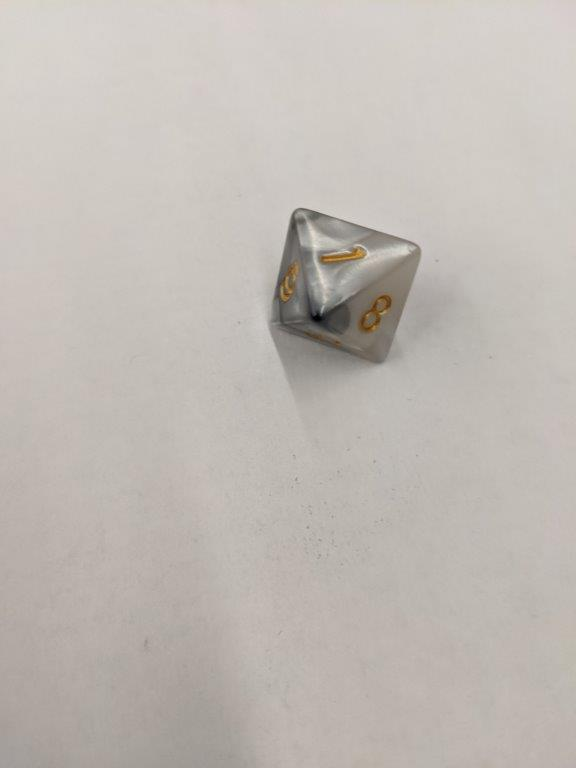d8-1: (269, 208, 421, 365)
